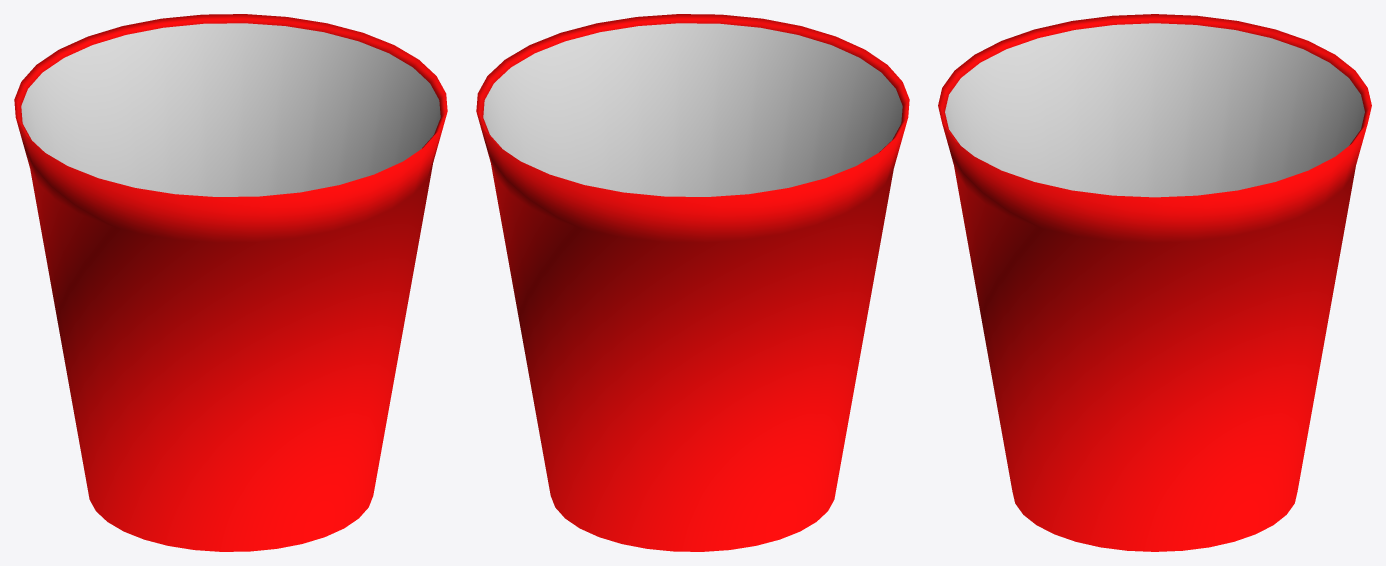
File: foamcup4.fbx
3 views of the same model, side by side, from view 1: azimuth 30°, elevation 25°; view 2: azimuth 150°, elevation 25°; view 3: azimuth 270°, elevation 25° (orthographic).
Parts seen in each view (by area): view 1: Cylinder; view 2: Cylinder; view 3: Cylinder.
Part boxes in pixels (x1,y1,x2,y2): Cylinder: [14, 14, 447, 551]; Cylinder: [476, 14, 909, 551]; Cylinder: [938, 14, 1371, 551].
Size of the model in its own units: 204 by 200 by 204.
